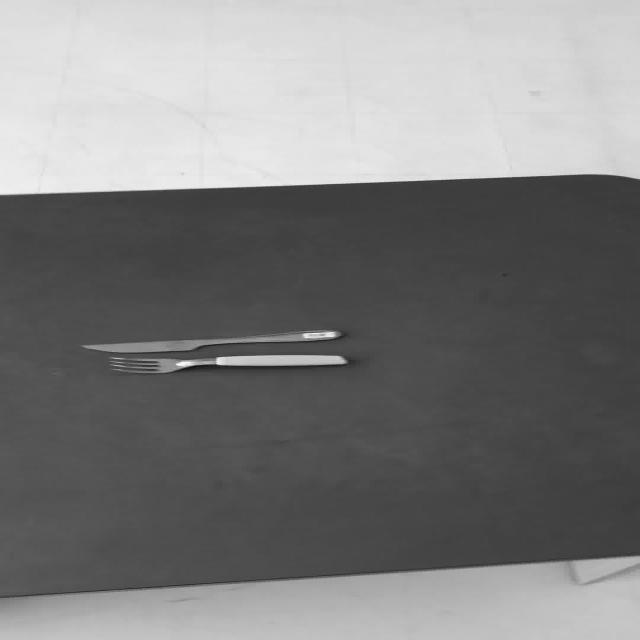fork: (106, 354, 348, 374)
knife fork: (79, 329, 344, 353)
